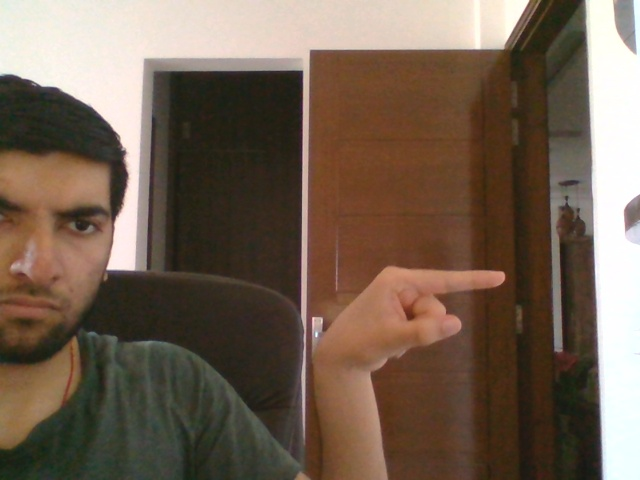LetterG: (314, 265, 506, 375)
